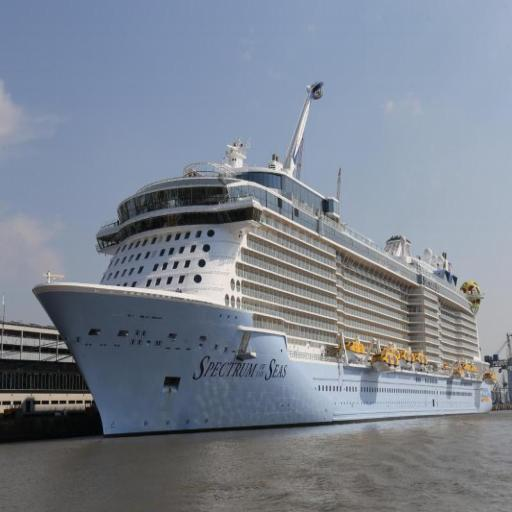cruises: (32, 135, 496, 440)
